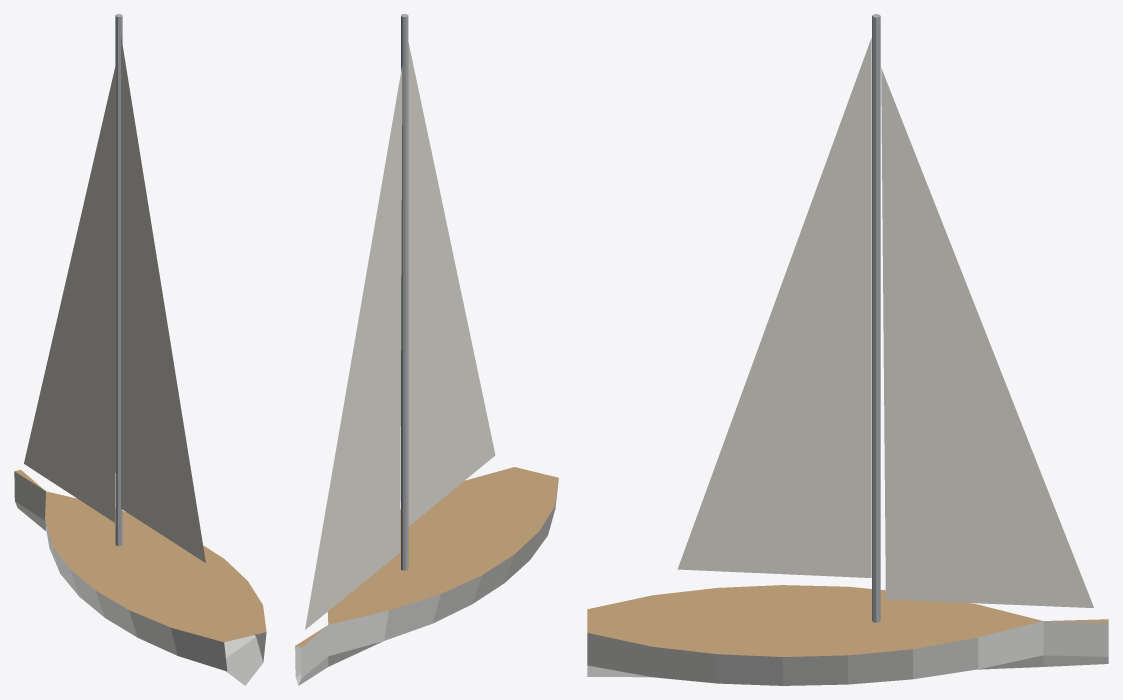
Rendered from sailboat.glb.
The picture shows the model from 3 angles, left to right: view 1: azimuth 30°, elevation 25°; view 2: azimuth 150°, elevation 25°; view 3: azimuth 270°, elevation 25°; orthographic projection. The views are drawn at different scales.
Visible parts, largest first — view 1: sailboat; view 2: sailboat; view 3: sailboat.
Boxes of the visible parts, box(x1,y1,x2,y2) form: sailboat: box(14, 14, 266, 685); sailboat: box(295, 14, 558, 685); sailboat: box(587, 14, 1108, 685).
Bounding box in the file's own units: 3.6 × 15.4 × 11.
